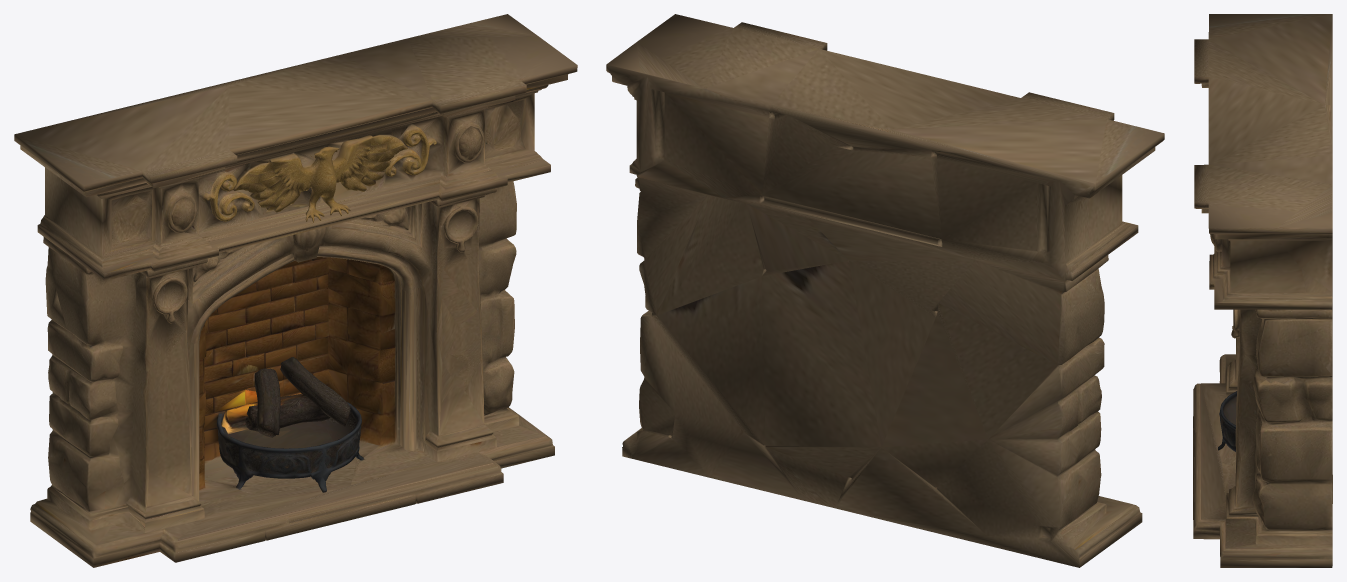
The model's file is hearth_h3.glb.
3 renders of one model, left to right at view 1: azimuth 30°, elevation 25°; view 2: azimuth 150°, elevation 25°; view 3: azimuth 270°, elevation 25°, orthographic. The views are drawn at different scales.
Parts seen in each view (by area): view 1: body; view 2: body; view 3: body.
Part boxes in pixels (<box>): body: <box>14,14,577,567</box>; body: <box>606,14,1164,567</box>; body: <box>1193,14,1332,567</box>.
Size of the model in its own units: 3.03 by 2.3 by 0.8386.
1 material, 1 textured.
